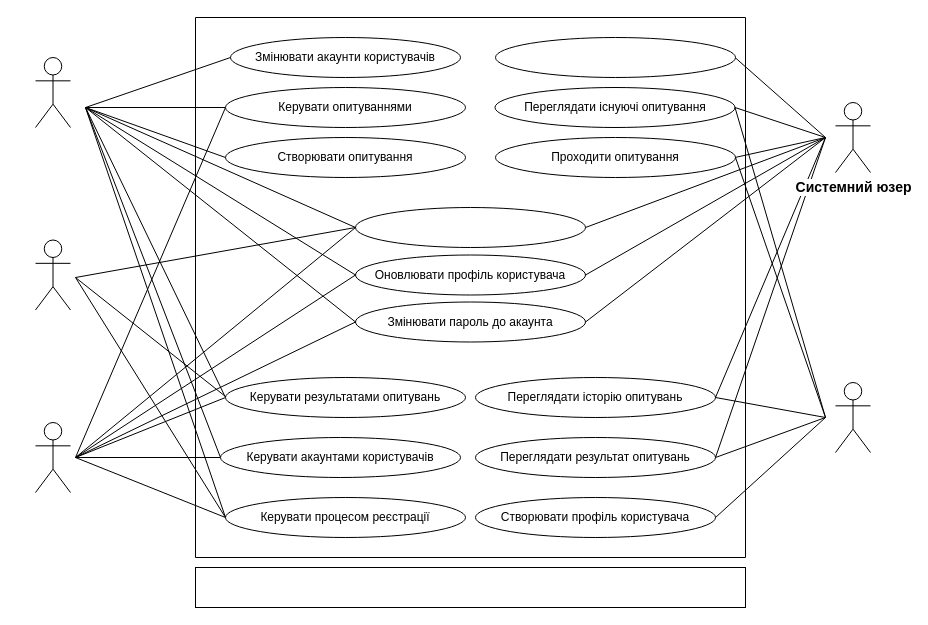
Some shapes in this 928 by 625 pixel diagram are drawn without their labels. The shapes that lost their labels are listed below. From the top down, each one's box as (x1, y1, x2, y2) in pixels, then its label:
(494, 36, 736, 78): Робити відгуки/коментувати опитування
(34, 56, 70, 128): Аналітик
(354, 206, 586, 248): Входити і виходити з Системи
(34, 239, 70, 310): Експерт
(834, 382, 870, 452): Користувач
(34, 422, 70, 492): Менеджер
(194, 566, 746, 608): Usecase Diagram
